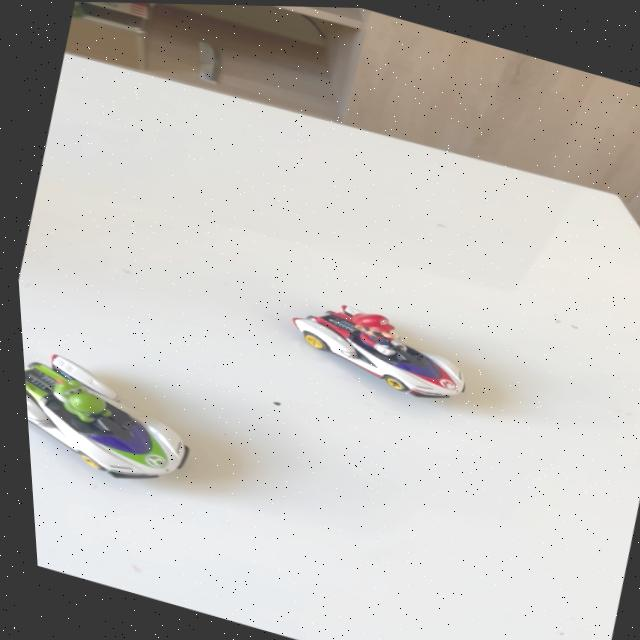mario: (257, 276, 510, 423)
yoshi: (17, 331, 228, 511)
